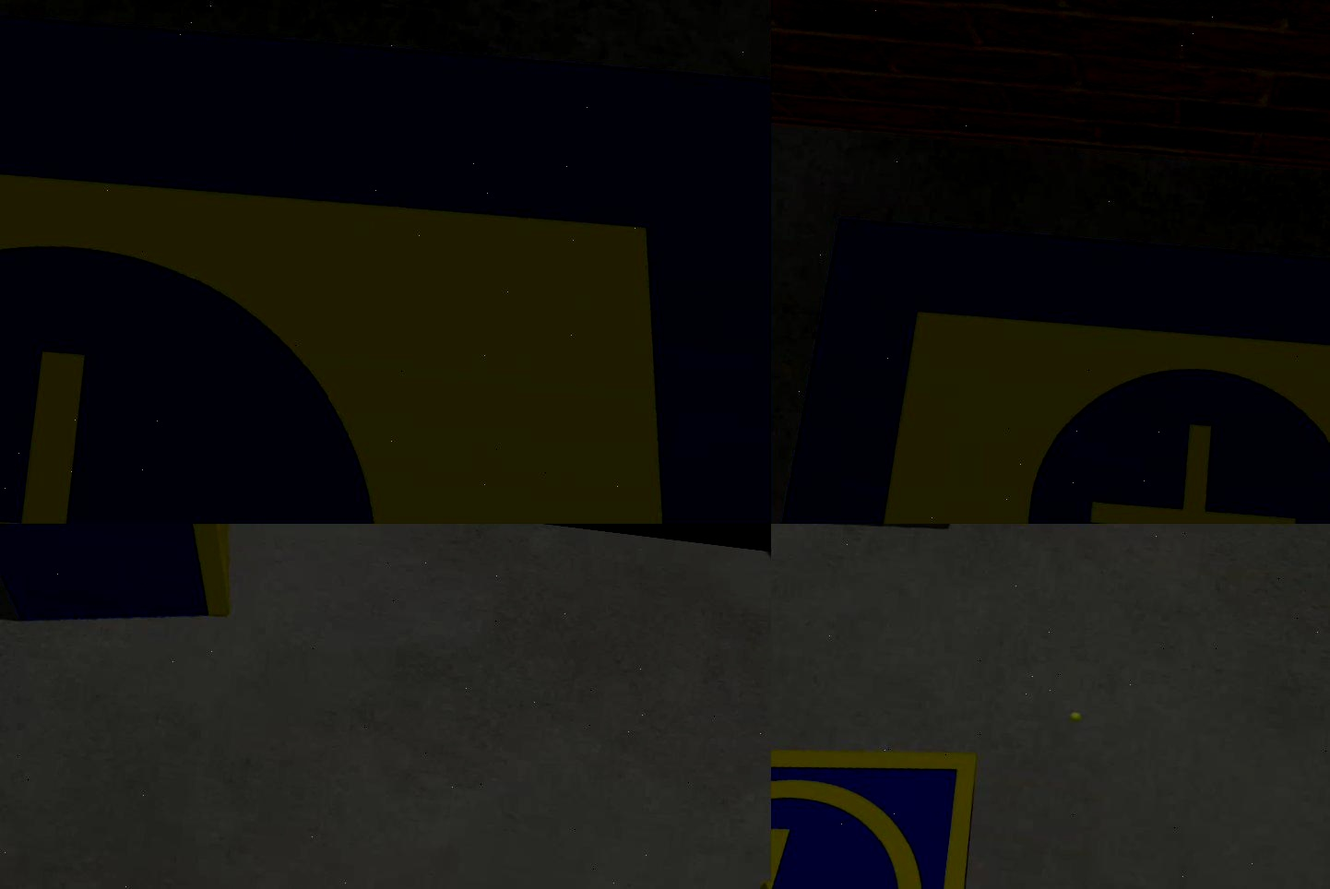large_base: (1, 1, 771, 524), (771, 186, 1330, 524)
small_base: (771, 698, 985, 889)
